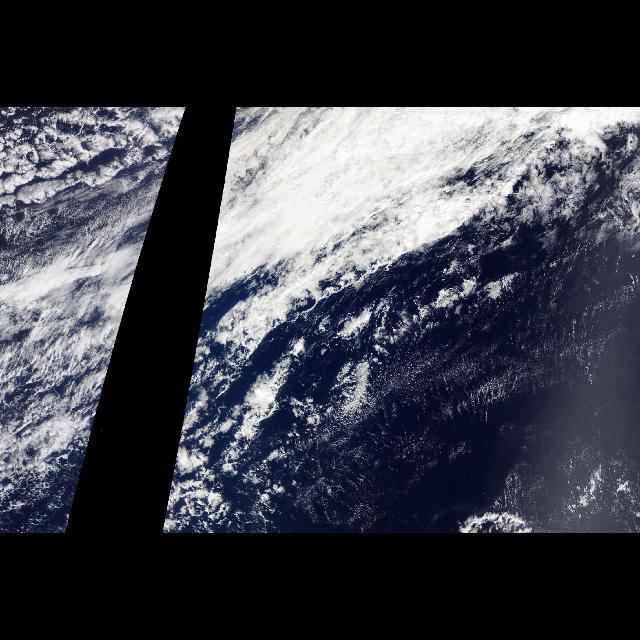Sugar: (434, 309, 640, 473)
